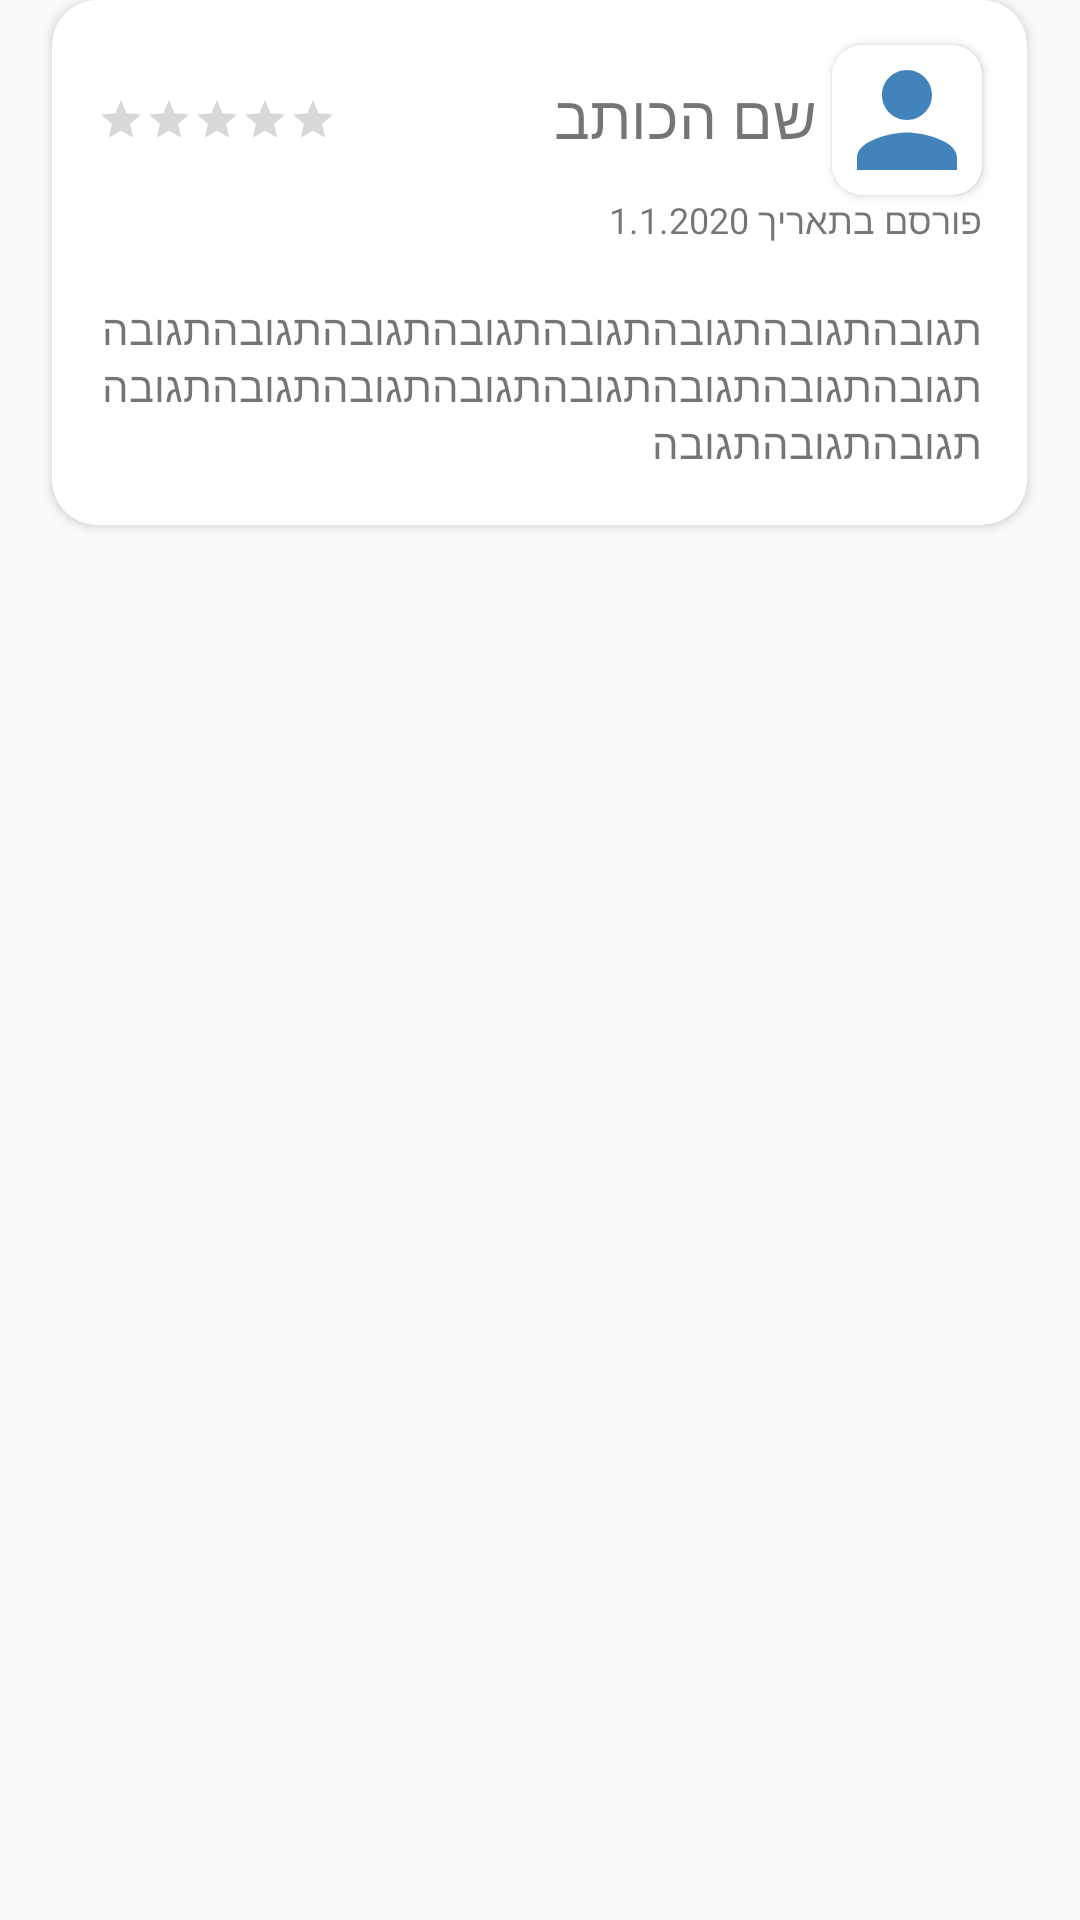

Icon bounding boxes for this 1080px×1920px phone screenshot, format rect(x1, y1, x2, y2):
no profile photo: rect(845, 45, 982, 195)
